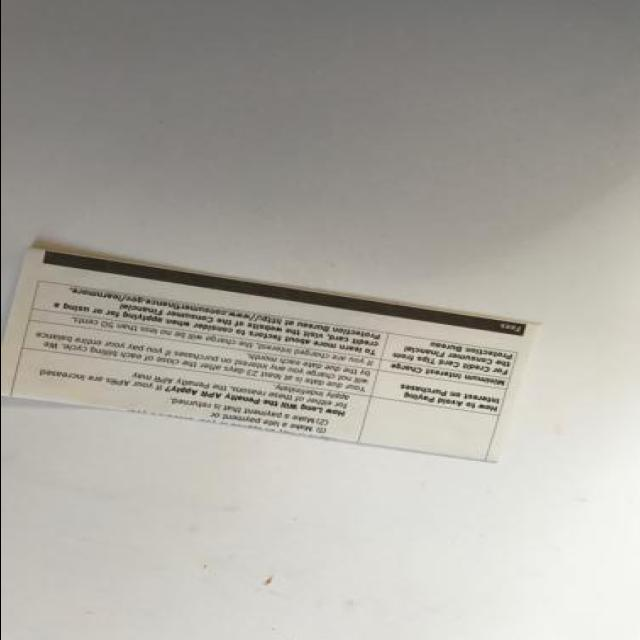kertas: (0, 245, 544, 465)
